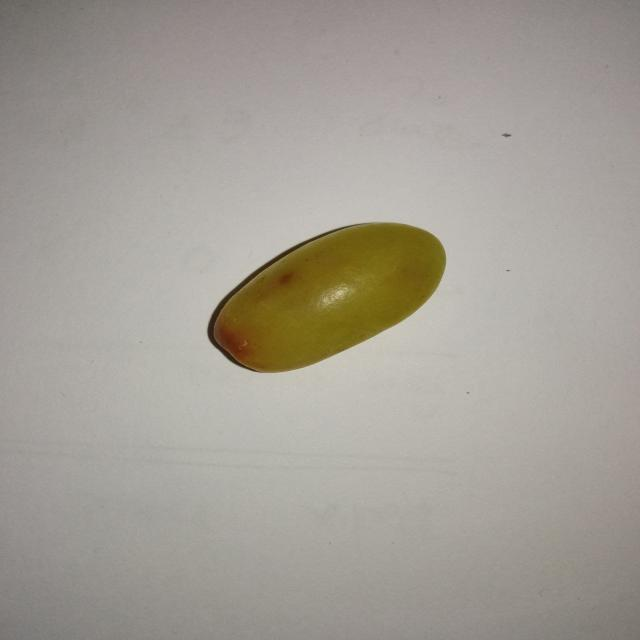fresh_grape: (217, 224, 439, 370)
